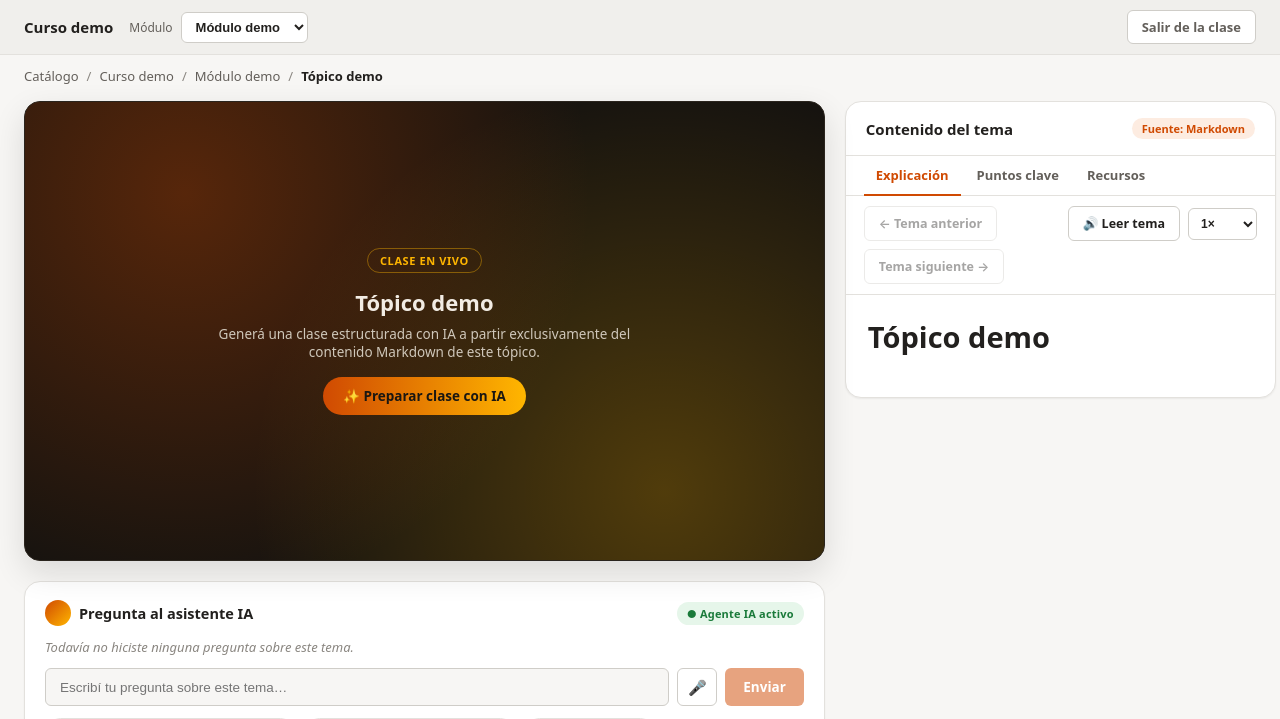
Test: ClassroomPage — v1.1.1 navegación del aula › H: Activar/Desactivar voz funciona
The width and height of the screenshot is (1280, 719).
Click the button "✨ Preparar clase con IA" at (424, 396), box [323, 376, 526, 414]
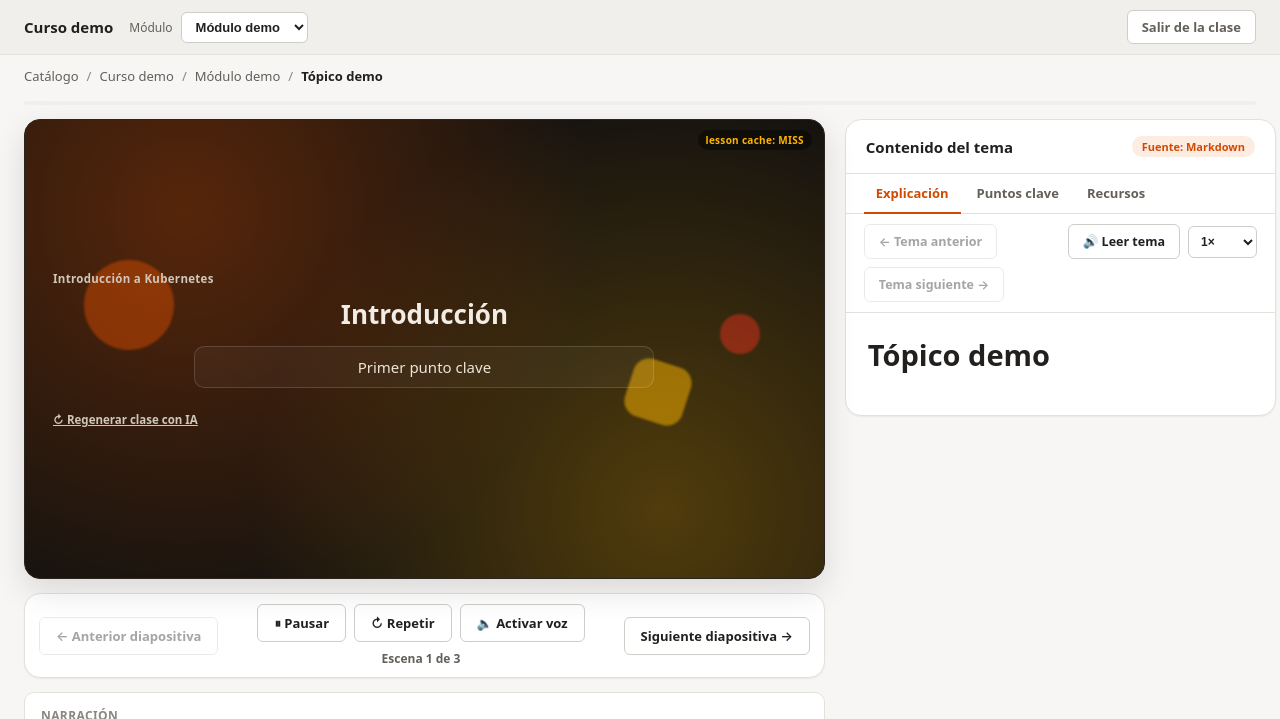
Expected: the text "Introducción a Kubernetes" is shown, [53, 271, 214, 286]
Click the button "🔈 Activar voz" at (522, 623), box [460, 604, 584, 642]
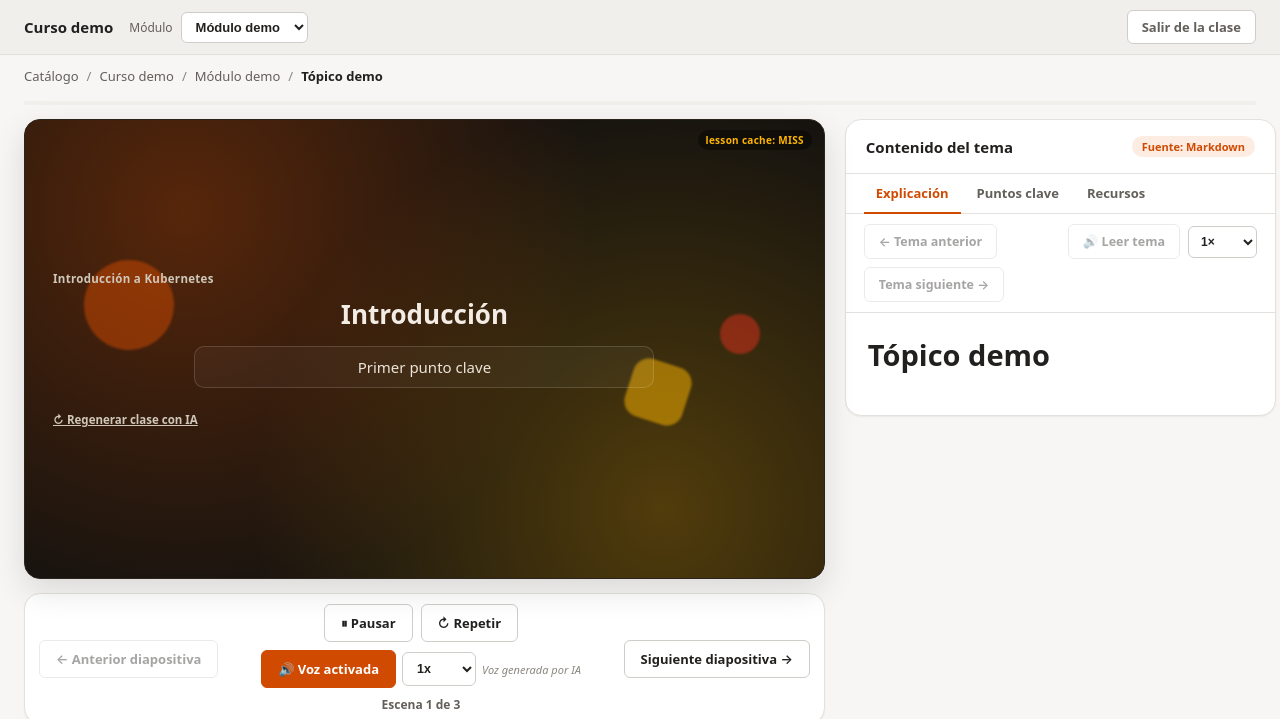
Expected: the button with aria-label "Desactivar voz" is shown, [261, 650, 396, 688]
